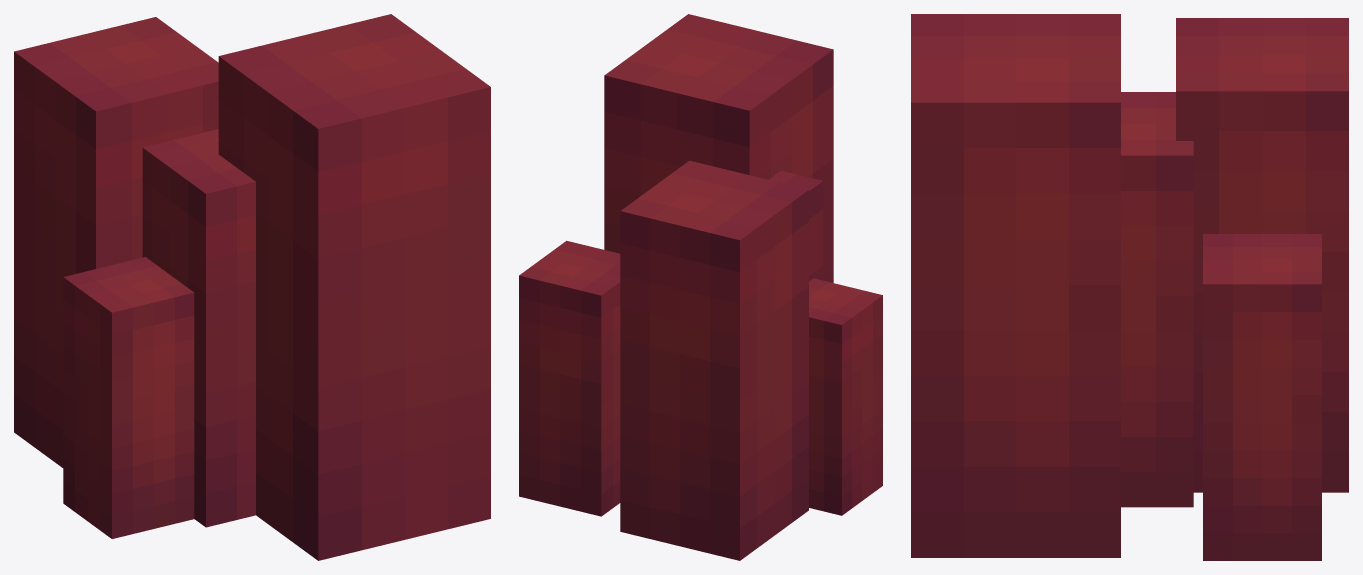
File: cinnabar_crystal_five.obj
The picture shows the model from 3 angles, left to right: view 1: azimuth 30°, elevation 25°; view 2: azimuth 150°, elevation 25°; view 3: azimuth 270°, elevation 25°; orthographic projection. The views are drawn at different scales.
Parts seen in each view (by area): view 1: Crystal4_Cube.000, Crystal1_Cube.003, Crystal2_Cube.002, Crystal3_Cube.001; view 2: Crystal1_Cube.003, Crystal4_Cube.000, Crystal5_Cube.008, Crystal2_Cube.002, Crystal3_Cube.001; view 3: Crystal4_Cube.000, Crystal1_Cube.003, Crystal5_Cube.008, Crystal3_Cube.001.
Part boxes in pixels (x1,y1,x2,y2): Crystal4_Cube.000: (218, 14, 490, 560); Crystal1_Cube.003: (14, 17, 218, 467); Crystal2_Cube.002: (63, 257, 194, 538); Crystal3_Cube.001: (142, 129, 255, 527); Crystal1_Cube.003: (620, 160, 808, 560); Crystal4_Cube.000: (604, 14, 833, 282); Crystal5_Cube.008: (519, 240, 620, 516); Crystal2_Cube.002: (809, 278, 882, 515); Crystal3_Cube.001: (769, 170, 823, 281); Crystal4_Cube.000: (911, 14, 1120, 557); Crystal1_Cube.003: (1176, 18, 1348, 492); Crystal5_Cube.008: (1203, 234, 1321, 560); Crystal3_Cube.001: (1121, 92, 1193, 507).
Bounding box in the file's own units: 0.4881 × 0.6473 × 0.5645.
